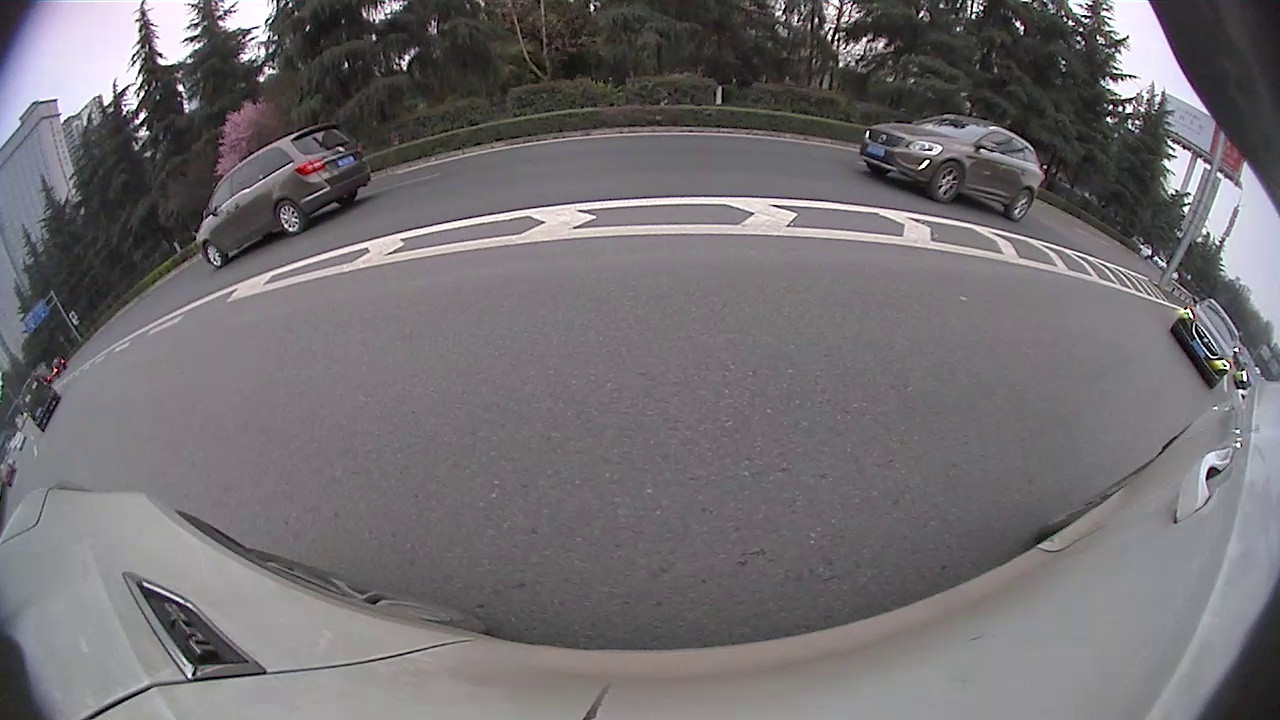car: (194, 122, 373, 271), (857, 110, 1047, 224), (1170, 295, 1244, 391), (16, 370, 63, 434)
front: (932, 161, 964, 203), (204, 241, 224, 267)
rear: (276, 201, 303, 235), (1009, 190, 1034, 221)
